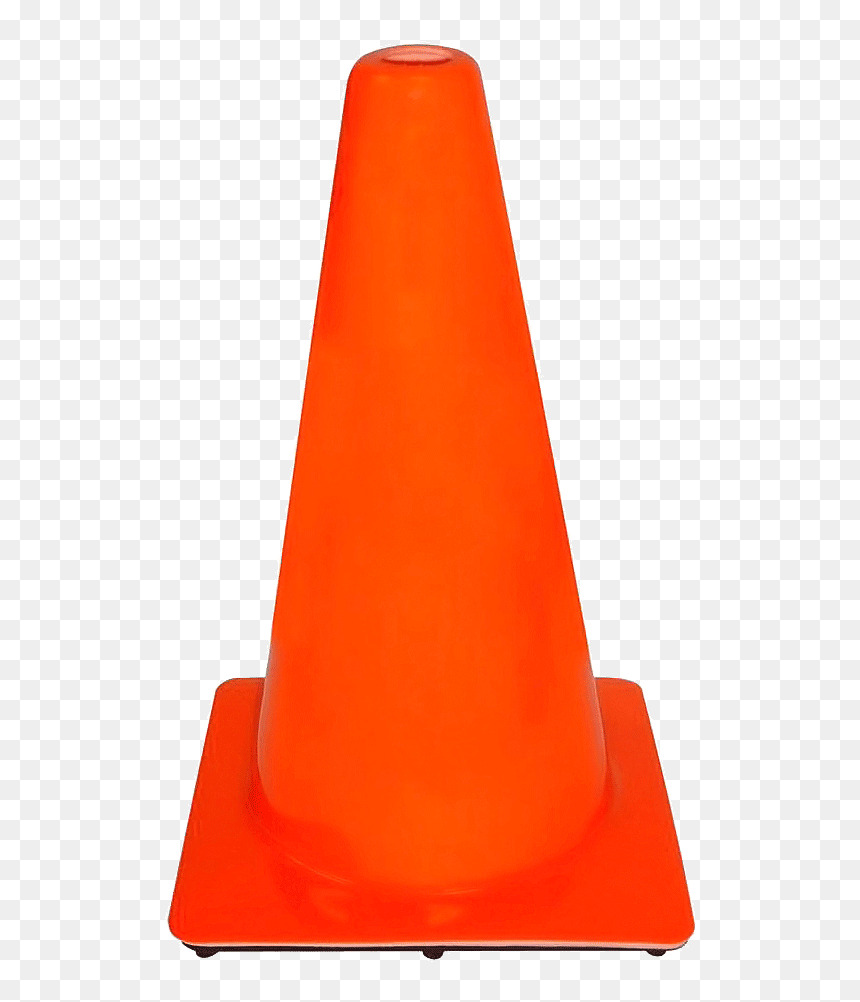cones: (149, 36, 705, 963)
